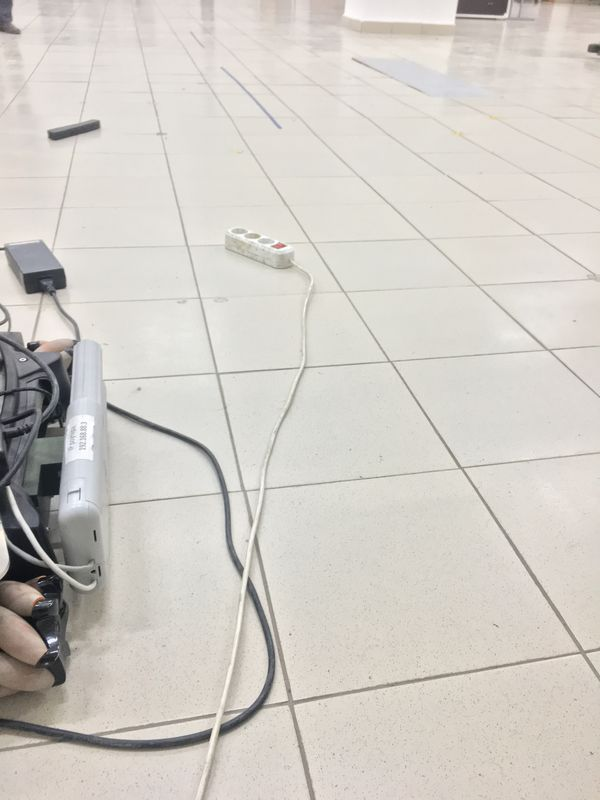socket: (219, 223, 300, 273)
